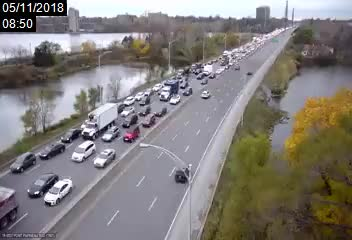congestion: (9, 117, 144, 206), (78, 85, 178, 138), (148, 63, 216, 99)
personal_car: (43, 179, 74, 206), (27, 173, 58, 197), (9, 151, 38, 175), (71, 140, 95, 163), (93, 148, 115, 169), (39, 143, 65, 160), (100, 125, 121, 144), (121, 125, 140, 143), (61, 127, 81, 144), (174, 165, 191, 185), (141, 113, 157, 127), (122, 113, 138, 127), (138, 104, 151, 117), (115, 100, 126, 114), (120, 106, 134, 117), (200, 89, 211, 101), (134, 91, 145, 102), (155, 106, 167, 116), (169, 94, 179, 105), (139, 96, 150, 106), (124, 96, 135, 106), (182, 87, 192, 97), (153, 82, 162, 93), (178, 80, 189, 88), (144, 87, 153, 96), (195, 72, 204, 80), (200, 77, 208, 85)
truck: (81, 102, 118, 140), (160, 80, 179, 101), (220, 52, 235, 66), (177, 65, 190, 81), (203, 63, 213, 76)
